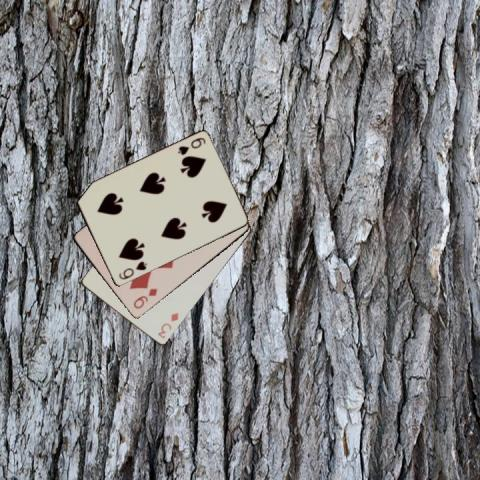3d: (155, 310, 180, 340)
6s: (115, 259, 148, 281), (174, 134, 206, 156)
9d: (130, 285, 159, 311)
